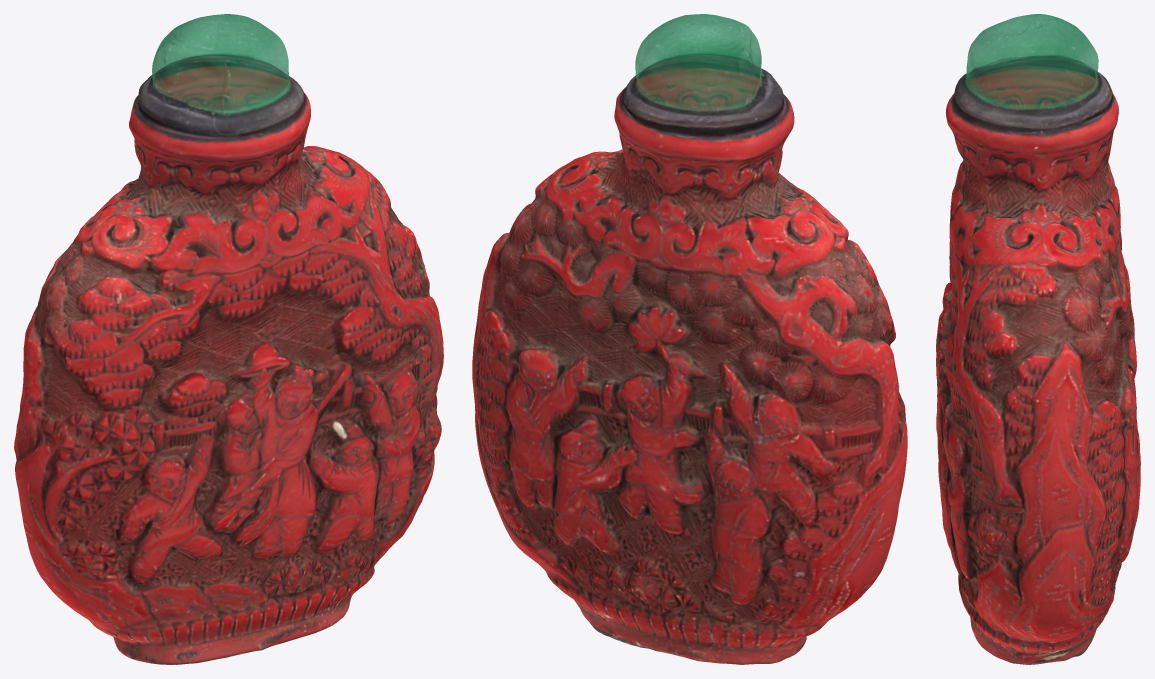
Rendered from snuff_bottle_c._1780-1850_ce_1k.glb.
The picture shows the model from 3 angles, left to right: view 1: azimuth 30°, elevation 25°; view 2: azimuth 150°, elevation 25°; view 3: azimuth 270°, elevation 25°; orthographic projection. The views are drawn at different scales.
Visible parts, largest first — view 1: Object_2; view 2: Object_2; view 3: Object_2.
Part boxes in pixels (x1=…): Object_2: x1=14, y1=14, x2=443, y2=664; Object_2: x1=472, y1=14, x2=907, y2=664; Object_2: x1=936, y1=14, x2=1140, y2=664.
Size of the model in its own units: 0.0605 by 0.0858 by 0.0268.
1 material, 1 textured.
